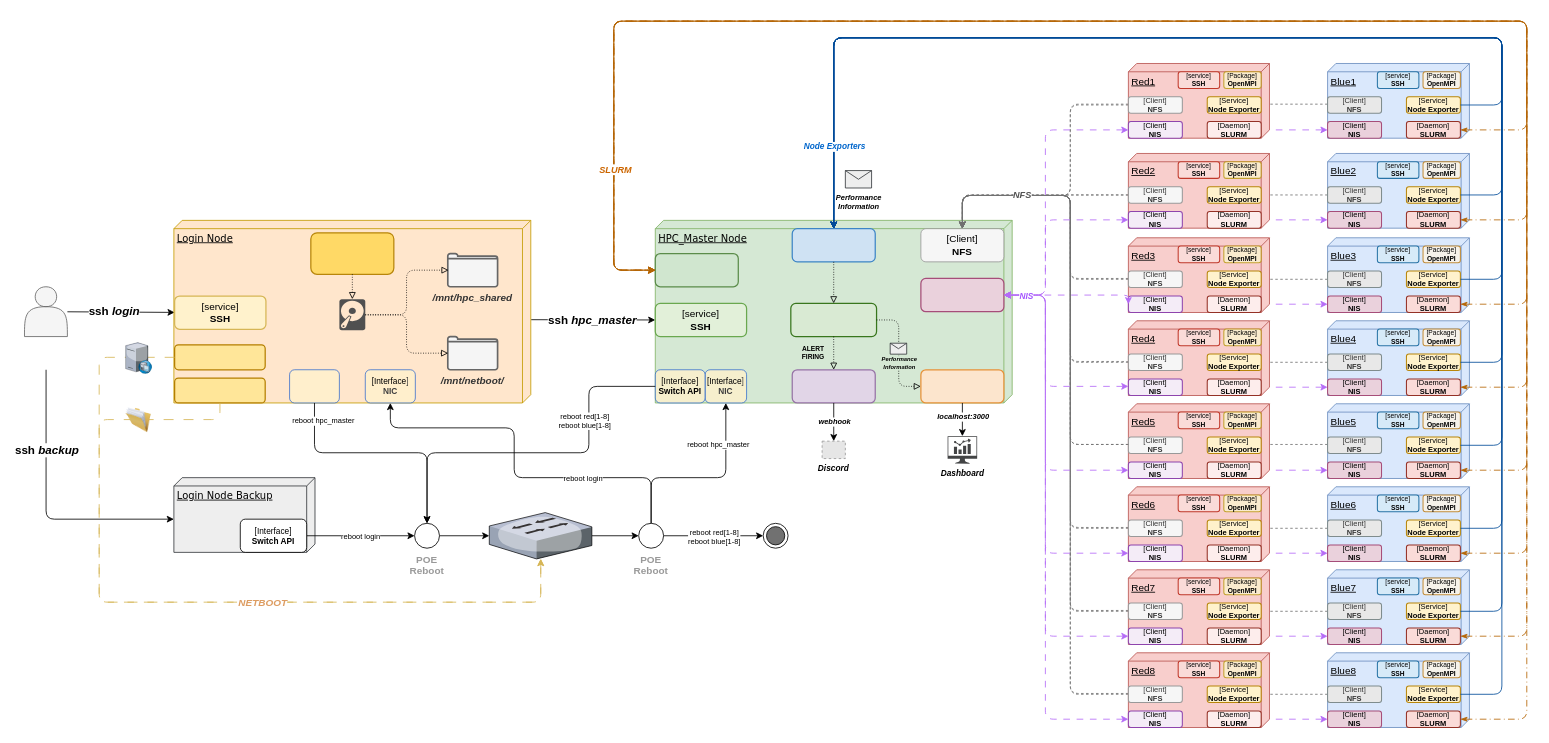
Image size: 1549x743. Some labels were removed from this diagram. Grey dashed boxes stand in for pictures. The shapes that lost their labels are listed below. From the top down, each one's centre as x and y in pixels, then its label:
the point at 352,253: [Server] NFS
the point at 833,245: [Service] Prometheus
the point at 696,270: [Controller] SLURM
the point at 45,311: User
the point at 352,314: SSD
the point at 962,294: [Service] NIS
the point at 833,319: [Service] Alertmanager
the point at 138,357: IP Assignment
the point at 219,357: [Server] DHCP
the point at 219,390: [Server] TFTP
the point at 314,386: [Interface ] Switch API
the point at 833,386: [Service] am-discord
the point at 962,386: [Service] Grafana
the point at 138,419: Boot Files
the point at 540,535: Gigabit Managed Switch (Layer 2, PoE)
the point at 775,535: red[1-8] blue[1-8]
